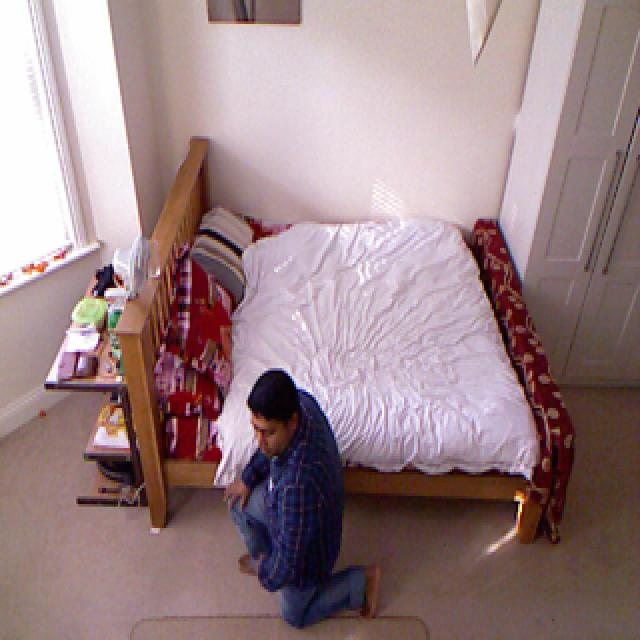crawling: (220, 370, 380, 627)
